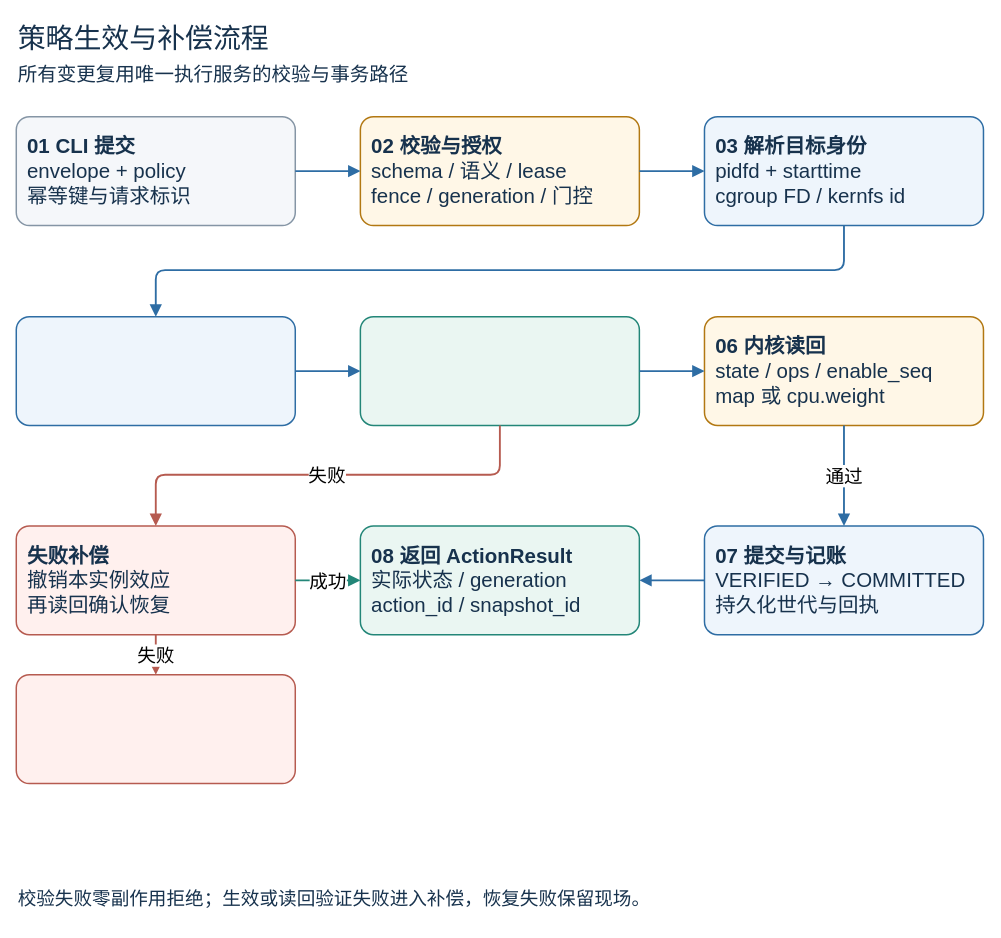
Some shapes in this 1001 by 938 pixel diagram are drawn without their labels. The shapes that lost their labels are listed below. From the top down, each one's centre as x and y in pixels, then its label:
At point 155,370: "04 快照先行 PREPARED + fsync 保存补偿所需原值".
At point 499,370: "05 Skill 生效 sched 或 cgroup 应用获准参数".
At point 155,729: "恢复未确认 RECOVERY_REQUIRED 禁止创建新效应".
